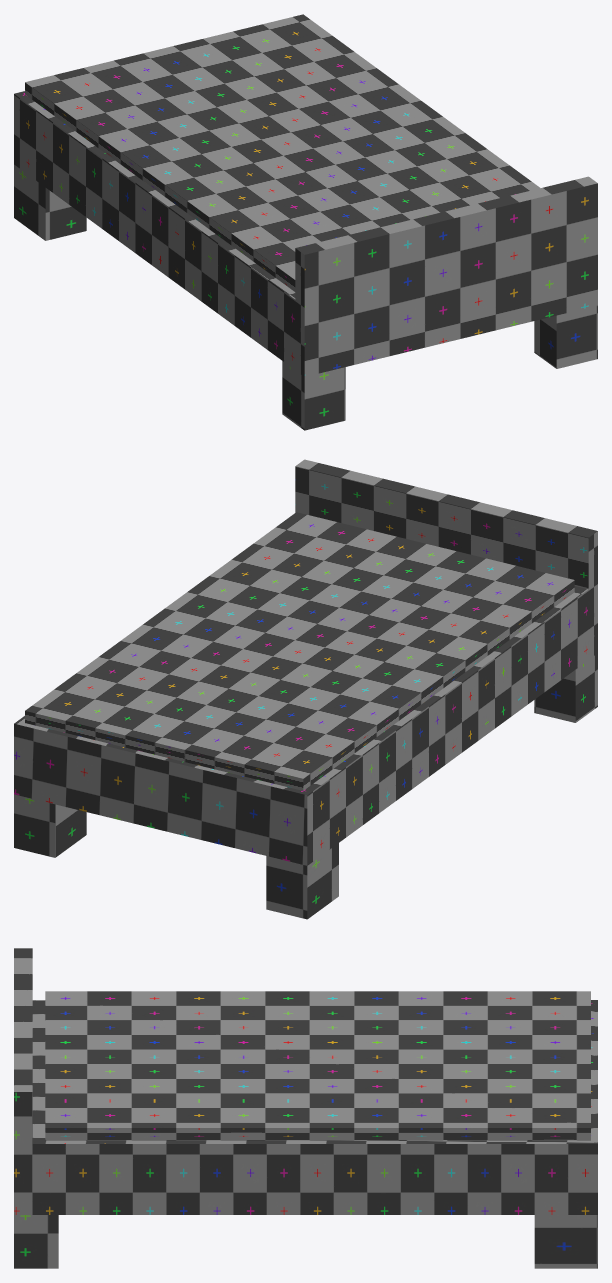
The model's file is LozkoSyp.obj.
3 renders of one model, top to bottom at view 1: azimuth 30°, elevation 25°; view 2: azimuth 150°, elevation 25°; view 3: azimuth 270°, elevation 25°, orthographic.
Visible parts, largest first — view 1: Cube.001_Cube.006; view 2: Cube.001_Cube.006; view 3: Cube.001_Cube.006.
Boxes of the visible parts, x1,y1,x2,y2 form: Cube.001_Cube.006: (14, 14, 597, 430); Cube.001_Cube.006: (14, 459, 597, 919); Cube.001_Cube.006: (14, 948, 597, 1268).
Bounding box in the file's own units: 2.87 × 1.64 × 4.92.
